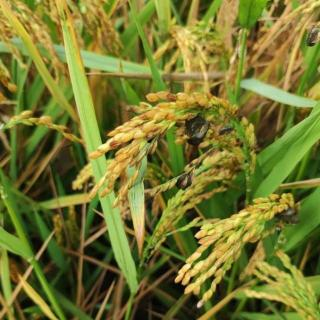Gosong-Palsu: (182, 112, 210, 142), (275, 204, 302, 226), (174, 171, 193, 191), (304, 27, 320, 47)
